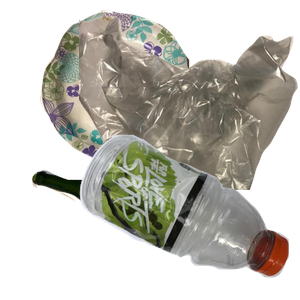glass: (29, 167, 241, 300)
paper: (37, 10, 219, 167)
plastic: (77, 132, 300, 300)
trash: (79, 14, 300, 194)
